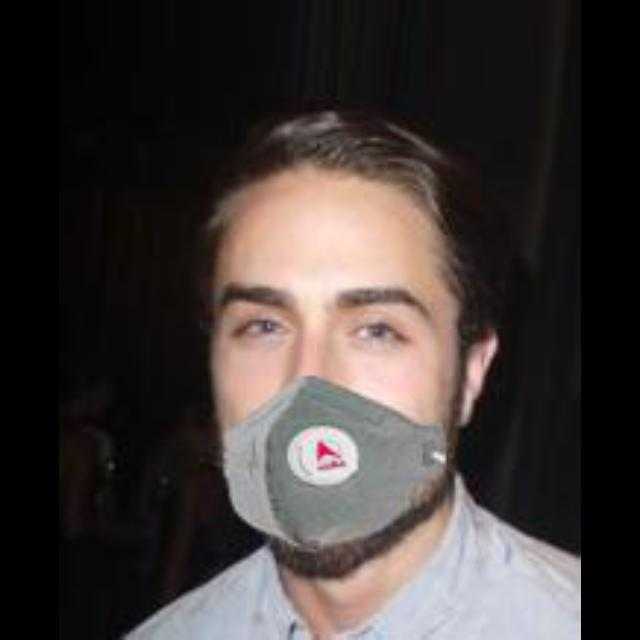suspicion: (196, 91, 480, 607)
